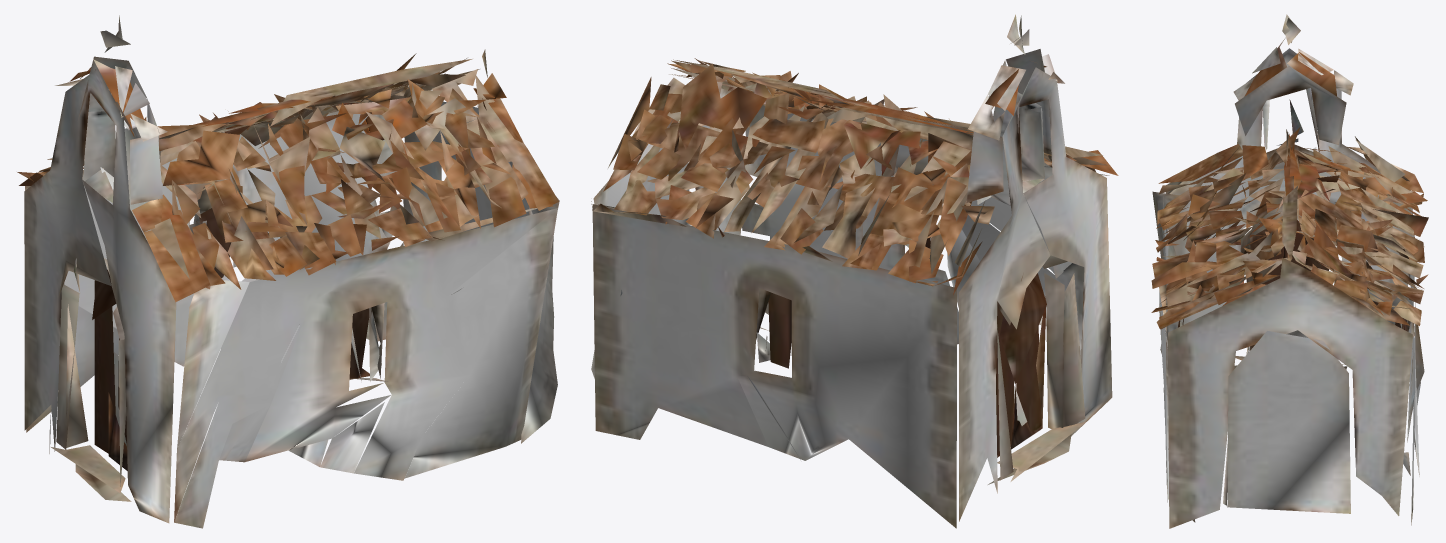
Rendered from serra_kapelle_lo.glb.
3 views of the same model, side by side, from view 1: azimuth 30°, elevation 25°; view 2: azimuth 150°, elevation 25°; view 3: azimuth 270°, elevation 25° (orthographic). The views are drawn at different scales.
Parts seen in each view (by area): view 1: Prop; view 2: Prop; view 3: Prop.
Part boxes in pixels (x1=…): Prop: x1=17, y1=15, x2=559, y2=528; Prop: x1=591, y1=14, x2=1118, y2=528; Prop: x1=1151, y1=14, x2=1428, y2=528.
Bounding box in the file's own units: 0.9431 × 1.02 × 0.6903.
Materials: 1 (1 with a texture image).
